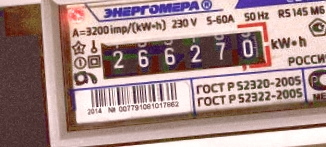0: (240, 37, 254, 58)
2: (109, 48, 126, 70), (187, 42, 202, 63)
6: (135, 46, 150, 68), (162, 45, 177, 66)
7: (213, 40, 226, 60)
screen: (90, 18, 277, 86)
